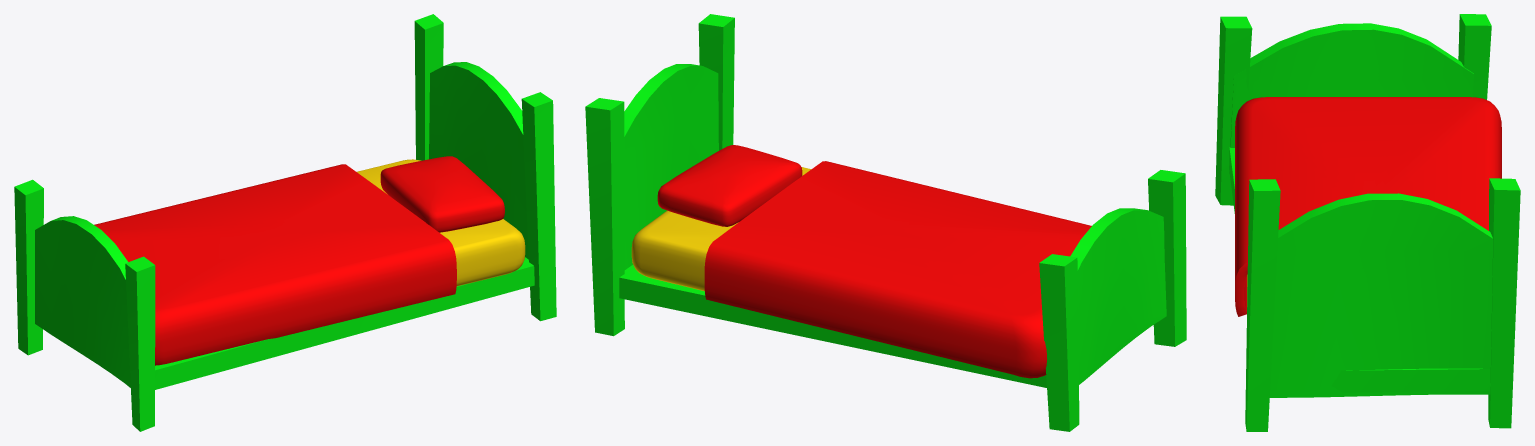
The model's file is Bed.FBX.
The picture shows the model from 3 angles, left to right: view 1: azimuth 30°, elevation 25°; view 2: azimuth 150°, elevation 25°; view 3: azimuth 270°, elevation 25°; orthographic projection. The views are drawn at different scales.
Visible parts, largest first — view 1: Bed; view 2: Bed; view 3: Bed.
Boxes of the visible parts, box(x1,y1,x2,y2) form: Bed: box(14, 14, 556, 431); Bed: box(585, 14, 1186, 431); Bed: box(1215, 14, 1520, 431).
Bounding box in the file's own units: 234 × 109 × 126.
